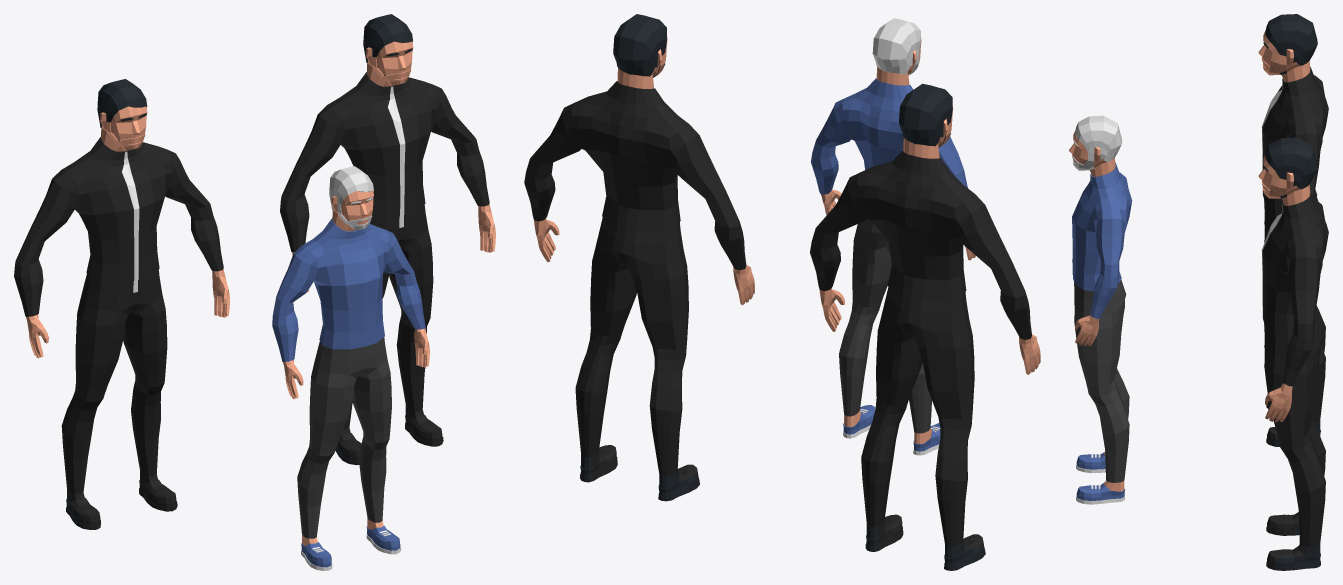
File: Boss&Guards.fbx
3 views of the same model, side by side, from view 1: azimuth 30°, elevation 25°; view 2: azimuth 150°, elevation 25°; view 3: azimuth 270°, elevation 25° (orthographic). The views are drawn at different scales.
Visible parts, largest first — view 1: character4.003, character4.001, character4.002; view 2: character4.003, character4.002, character4.001; view 3: character4.002, character4.001, character4.003.
Part boxes in pixels (x1=…): character4.003: x1=14, y1=79, x2=229, y2=529; character4.001: x1=272, y1=166, x2=429, y2=570; character4.002: x1=280, y1=14, x2=495, y2=465; character4.003: x1=810, y1=83, x2=1040, y2=570; character4.002: x1=524, y1=14, x2=754, y2=501; character4.001: x1=811, y1=18, x2=975, y2=455; character4.002: x1=1258, y1=137, x2=1328, y2=570; character4.001: x1=1069, y1=115, x2=1132, y2=504; character4.003: x1=1258, y1=14, x2=1328, y2=446.
Bounding box in the file's own units: 235 × 206 × 119.
